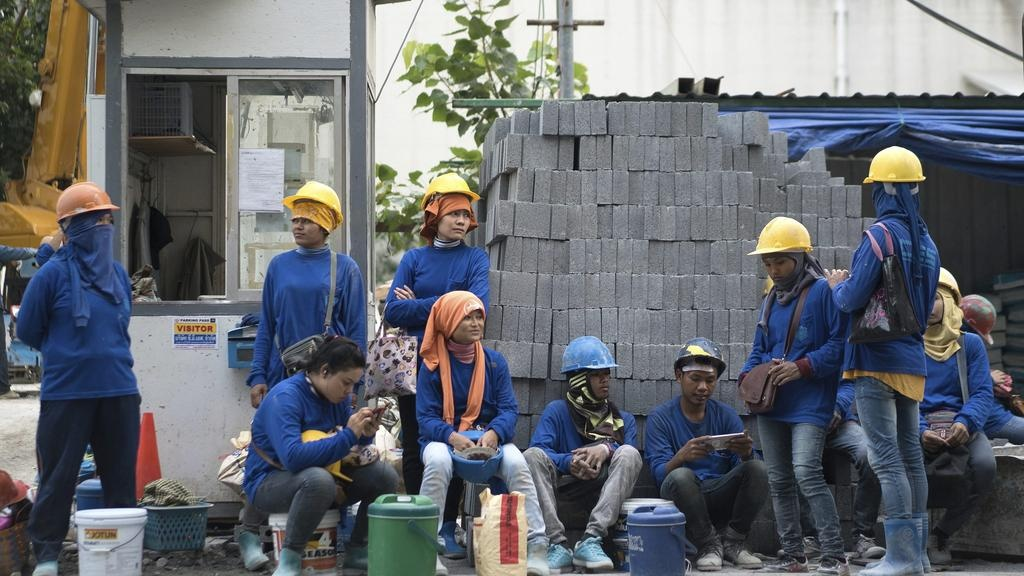blue: (561, 333, 616, 403), (677, 336, 723, 403)
none: (309, 334, 366, 403), (435, 290, 485, 349)
yellow: (865, 142, 925, 215), (55, 182, 116, 248), (421, 173, 477, 243), (281, 184, 342, 248), (758, 217, 814, 286), (922, 266, 957, 326)
